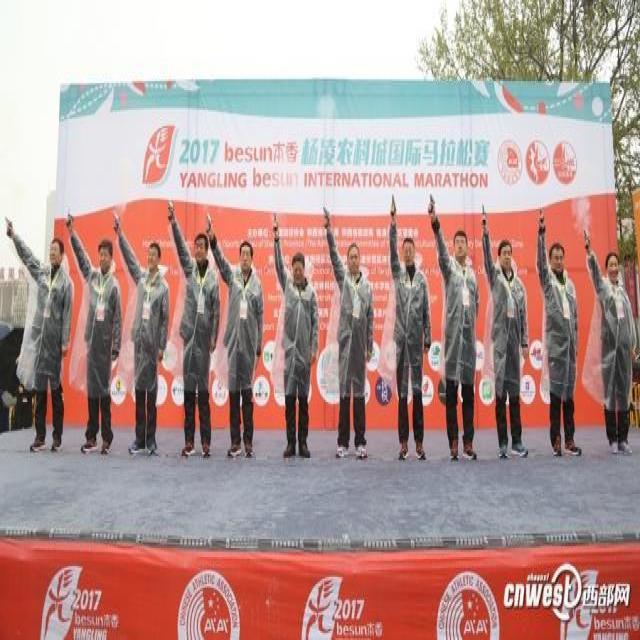non-fight: (4, 216, 78, 456), (166, 195, 222, 460), (205, 208, 263, 461), (66, 212, 126, 454), (427, 191, 480, 463), (114, 210, 170, 461), (323, 205, 376, 461), (270, 207, 320, 460), (582, 230, 638, 454), (480, 206, 528, 462), (389, 195, 432, 463), (535, 206, 580, 460)
